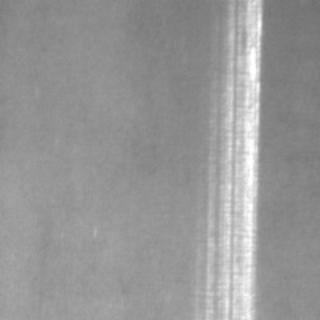scratches: (213, 1, 259, 316)
